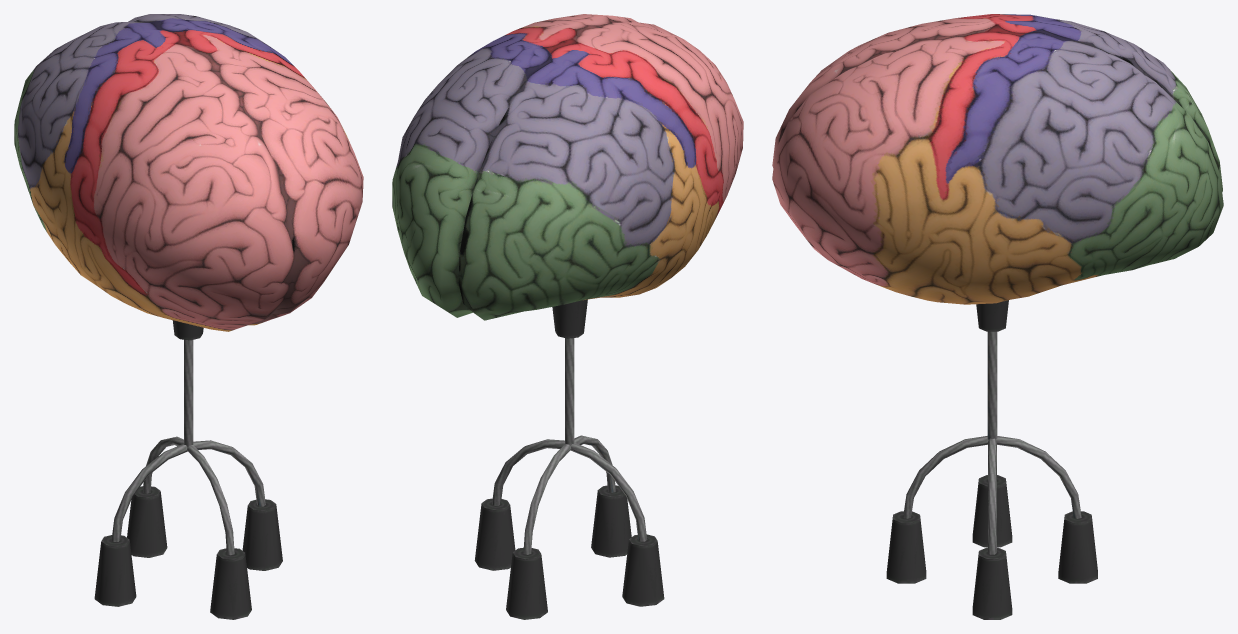
File: brain_model.dae
3 views of the same model, side by side, from view 1: azimuth 30°, elevation 25°; view 2: azimuth 150°, elevation 25°; view 3: azimuth 270°, elevation 25° (orthographic).
Parts seen in each view (by area): view 1: low, stand; view 2: low, stand; view 3: low, stand.
Boxes of the visible parts, x1,y1,x2,y2 form: low: [14, 14, 363, 331]; stand: [94, 320, 282, 619]; low: [392, 14, 743, 320]; stand: [474, 299, 664, 619]; low: [772, 14, 1223, 304]; stand: [886, 300, 1097, 619].
Size of the model in its own units: 0.298 by 0.6004 by 0.4505.
